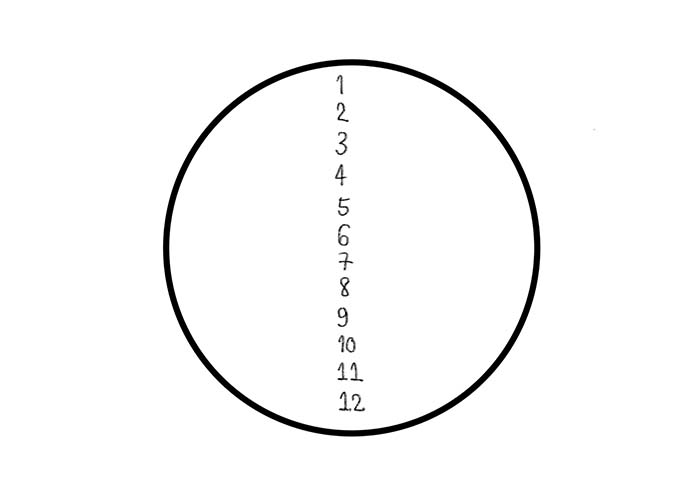eight: (334, 271, 356, 300)
eleven: (333, 355, 368, 384)
five: (333, 193, 355, 218)
four: (331, 159, 350, 188)
nine: (330, 303, 355, 328)
one: (330, 70, 350, 97)
seven: (333, 246, 357, 270)
six: (334, 220, 355, 249)
ten: (335, 331, 362, 354)
three: (333, 127, 352, 156)
twelve: (333, 389, 366, 416)
two: (334, 101, 353, 123)
